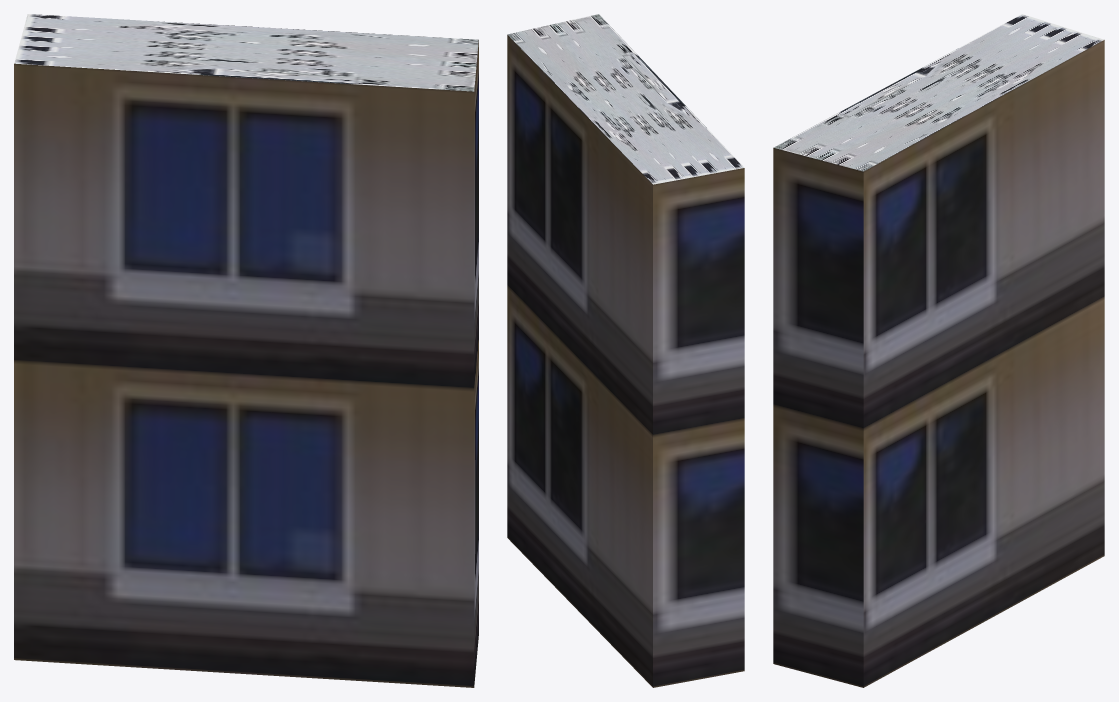
Rendered from ResTex__3613.fbx.
3 views of the same model, side by side, from view 1: azimuth 30°, elevation 25°; view 2: azimuth 150°, elevation 25°; view 3: azimuth 270°, elevation 25° (orthographic). The views are drawn at different scales.
Parts seen in each view (by area): view 1: CityEngineMaterial_5_m, CityEngineMaterial_m; view 2: CityEngineMaterial_5_m, CityEngineMaterial_m; view 3: CityEngineMaterial_5_m, CityEngineMaterial_m.
Part boxes in pixels (x1,y1,x2,y2): CityEngineMaterial_5_m: [14, 40, 478, 687]; CityEngineMaterial_m: [14, 14, 478, 91]; CityEngineMaterial_5_m: [507, 35, 744, 687]; CityEngineMaterial_m: [507, 14, 744, 184]; CityEngineMaterial_5_m: [773, 40, 1104, 687]; CityEngineMaterial_m: [774, 14, 1103, 171].
Bounding box in the file's own units: 3.93 × 6 × 3.49.
Materials: 2 (2 with a texture image).
